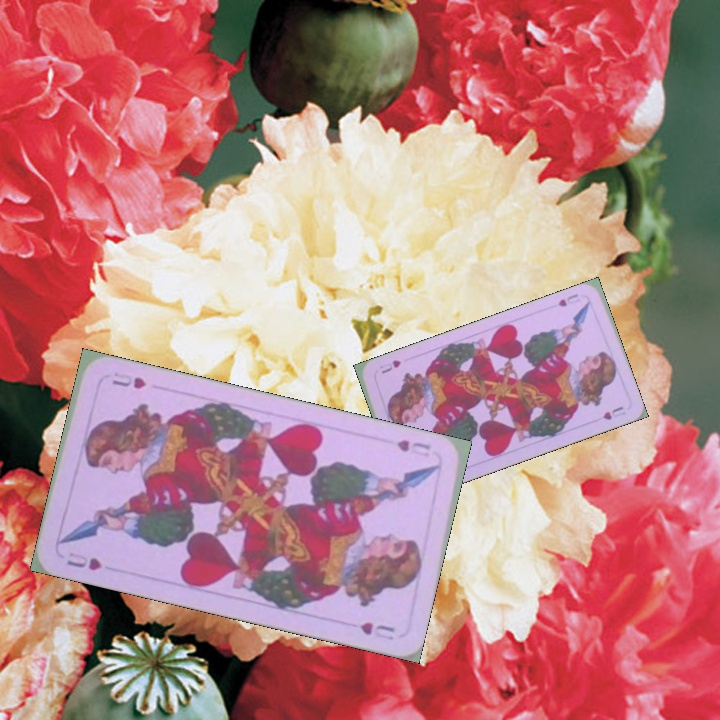HU: (62, 548, 105, 573), (392, 435, 433, 455), (554, 289, 585, 309)
